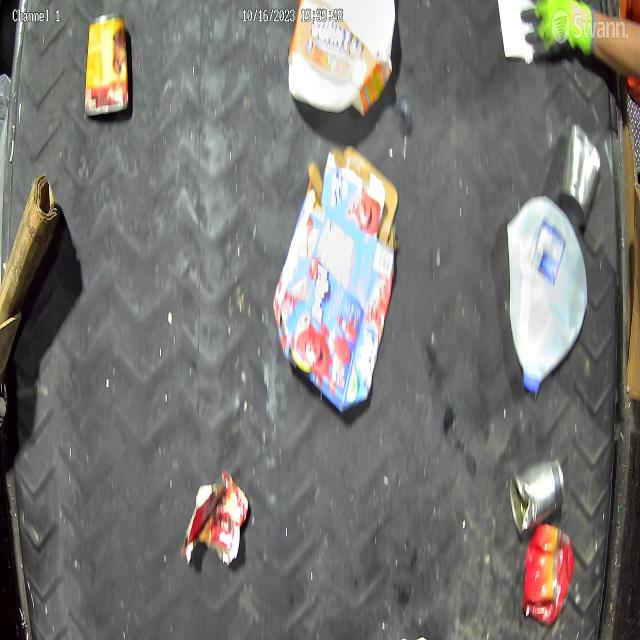can: (84, 9, 131, 119), (557, 121, 602, 227), (509, 458, 566, 538)
milk_jug: (506, 193, 588, 395), (287, 0, 397, 114)
